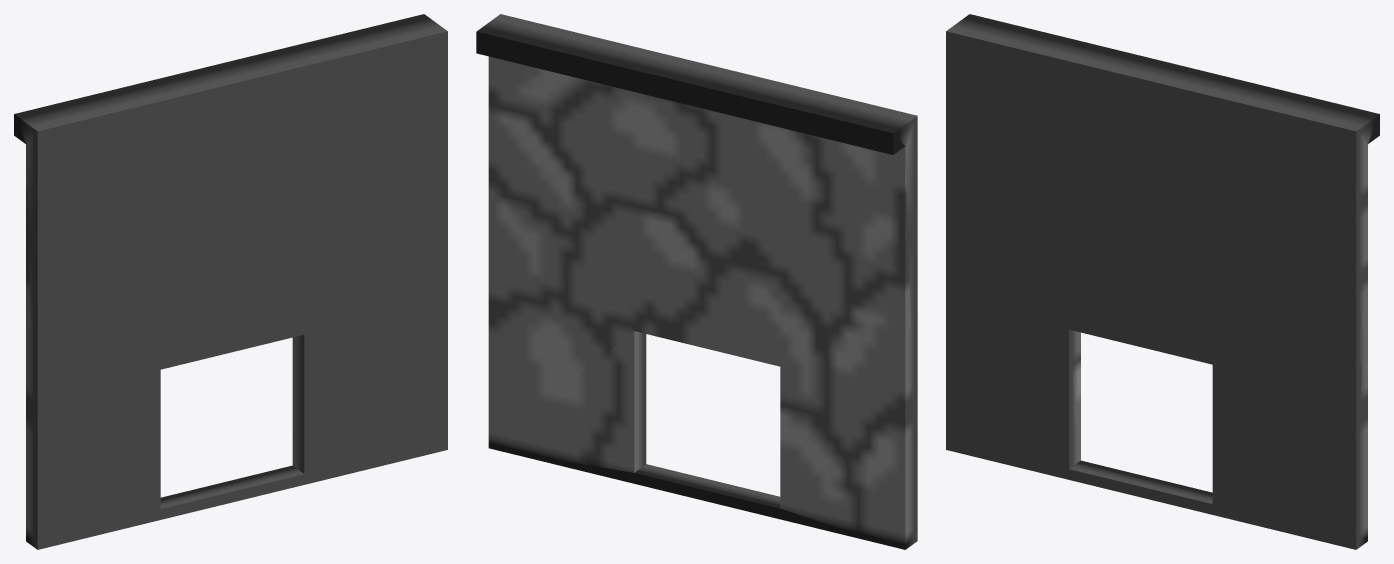
The model's file is WallDefaultGun_L.fbx.
The picture shows the model from 3 angles, left to right: view 1: azimuth 30°, elevation 25°; view 2: azimuth 150°, elevation 25°; view 3: azimuth 330°, elevation 25°; orthographic projection.
Parts seen in each view (by area): view 1: walldefaultgun_l.walldefaultgun_l-0; view 2: walldefaultgun_l.walldefaultgun_l-0; view 3: walldefaultgun_l.walldefaultgun_l-0.
Part boxes in pixels (x1,y1,x2,y2): walldefaultgun_l.walldefaultgun_l-0: (14,14,447,549); walldefaultgun_l.walldefaultgun_l-0: (476,14,917,549); walldefaultgun_l.walldefaultgun_l-0: (946,14,1379,549).
Bounding box in the file's own units: 400 × 390 × 40.
